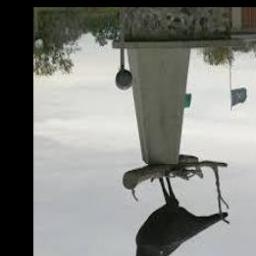Crow: (118, 170, 230, 256)
